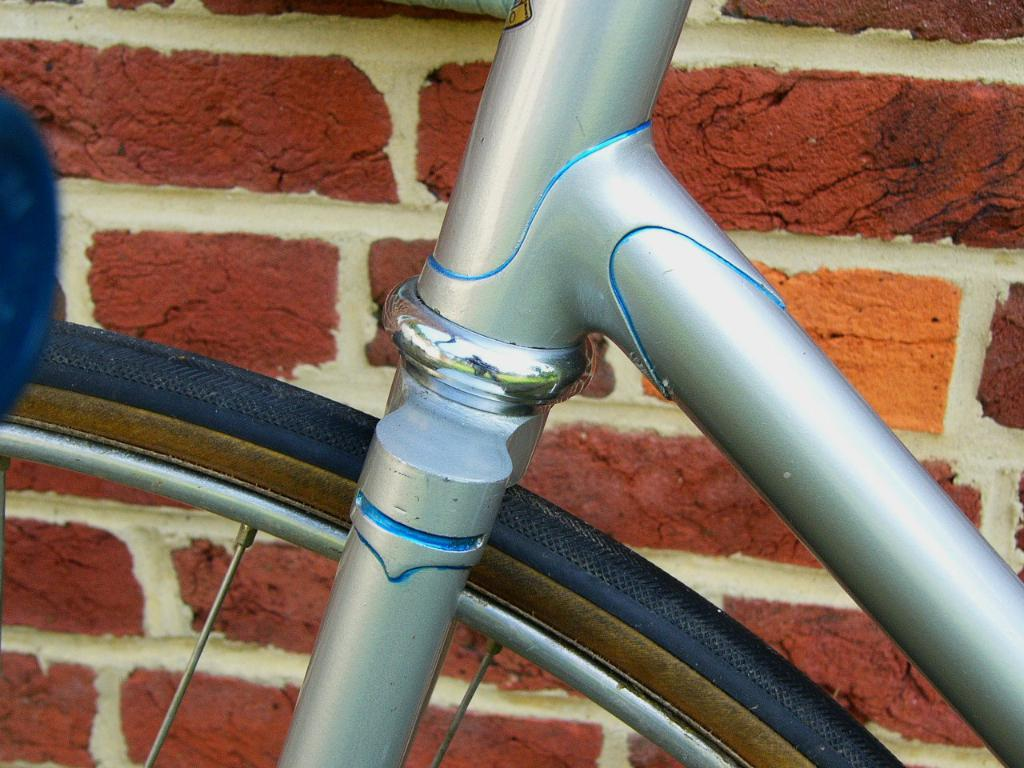Bicycle: (7, 0, 1024, 768)
